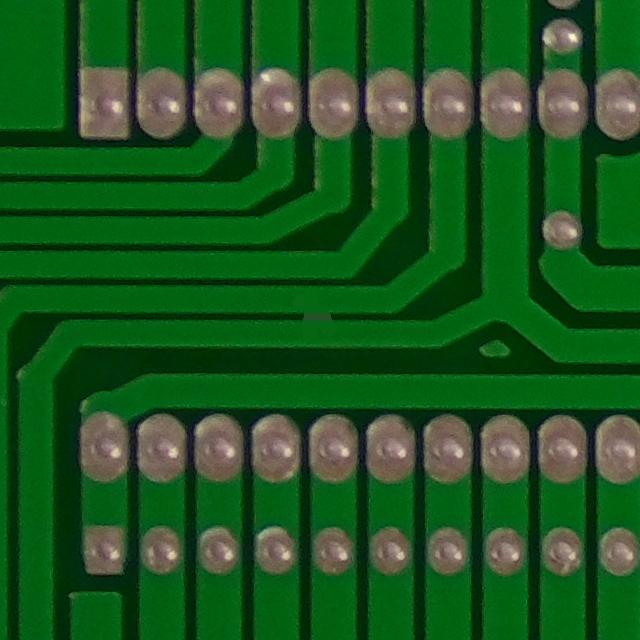short: (277, 281, 364, 360)
